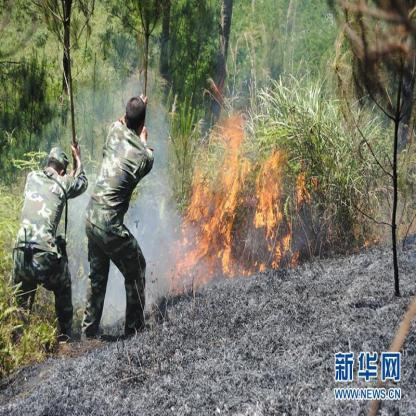fire: (171, 119, 329, 275)
